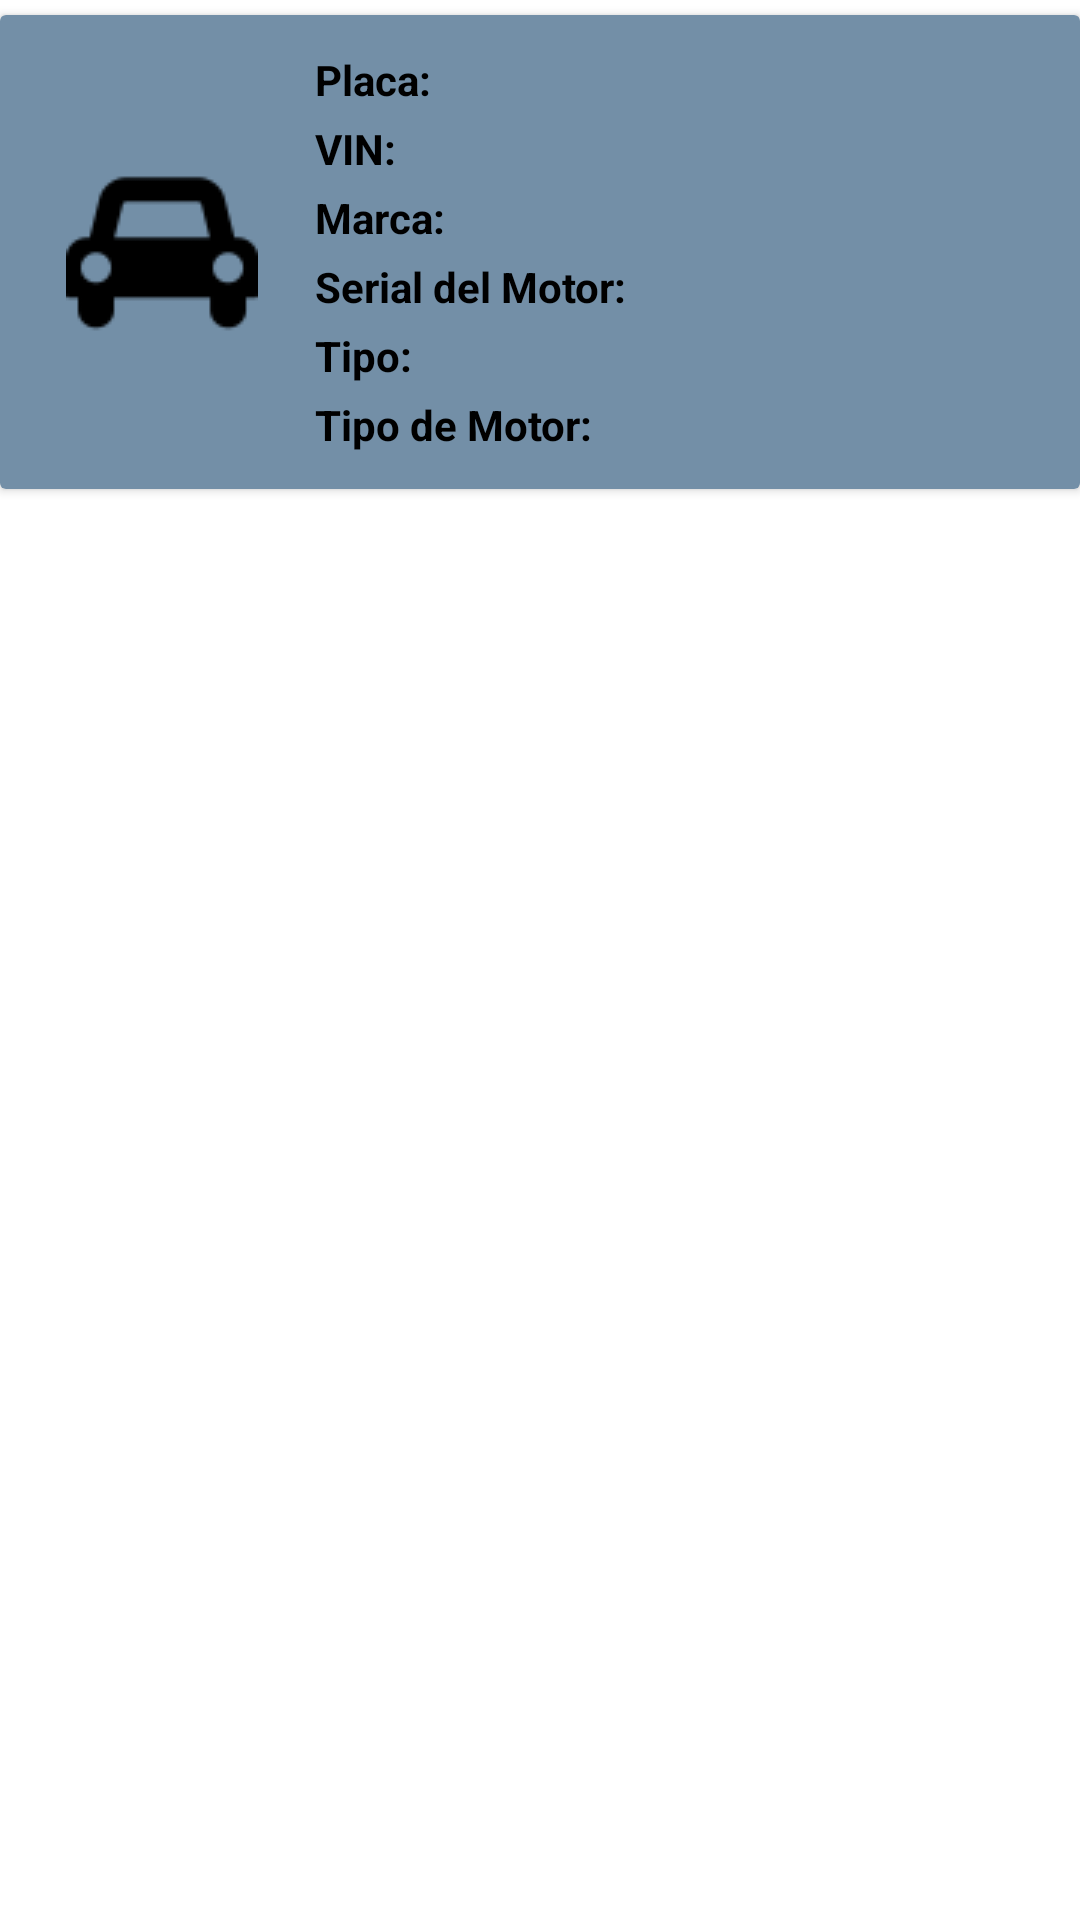

Icon click points for this 1080w x 1920h phone screenshot, format [x,y]:
automobile: [162,253]
